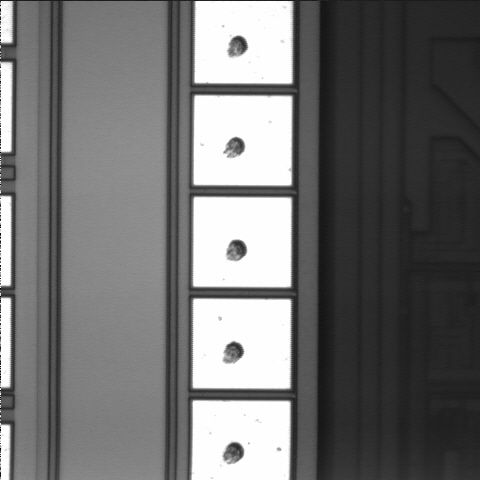pad: (193, 197, 291, 287), (193, 299, 291, 389), (194, 96, 292, 185)
